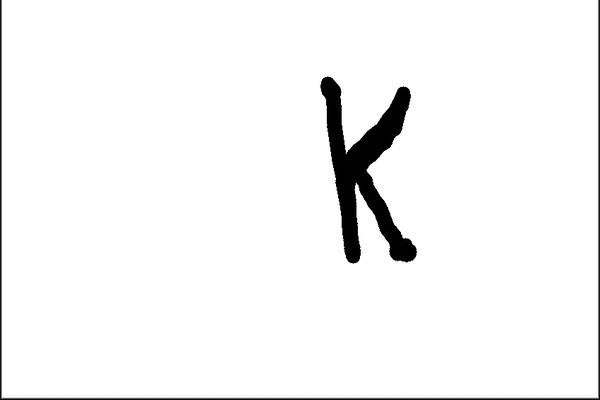K: (307, 65, 427, 269)
